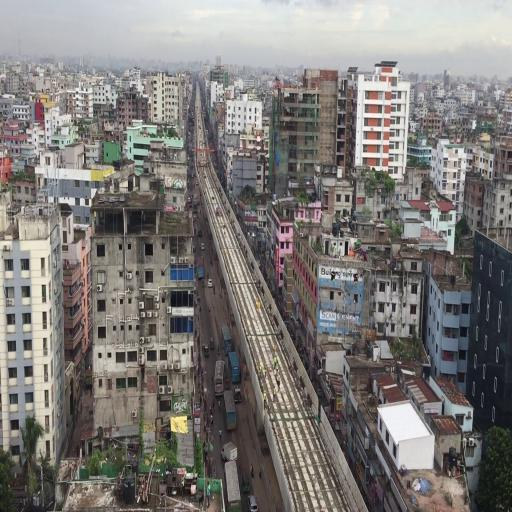bus: (225, 461, 242, 512), (224, 392, 237, 431), (228, 352, 242, 384), (215, 361, 225, 396), (222, 328, 232, 357), (198, 257, 205, 280), (195, 193, 199, 205)
car: (249, 496, 259, 512), (209, 279, 213, 288), (201, 244, 206, 251), (189, 198, 191, 204)
motorbike: (218, 346, 221, 357), (209, 304, 212, 312), (214, 287, 217, 295)
pickup: (222, 443, 239, 463)
rickshaw: (225, 378, 230, 390), (202, 279, 206, 288)
suv: (234, 387, 242, 403)
three wheelers (CNG): (243, 473, 250, 493), (205, 345, 210, 357), (211, 337, 215, 350)
